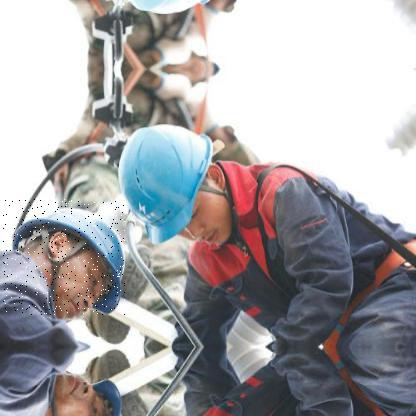safetyhelmet: (3, 199, 126, 316), (118, 122, 208, 246)
